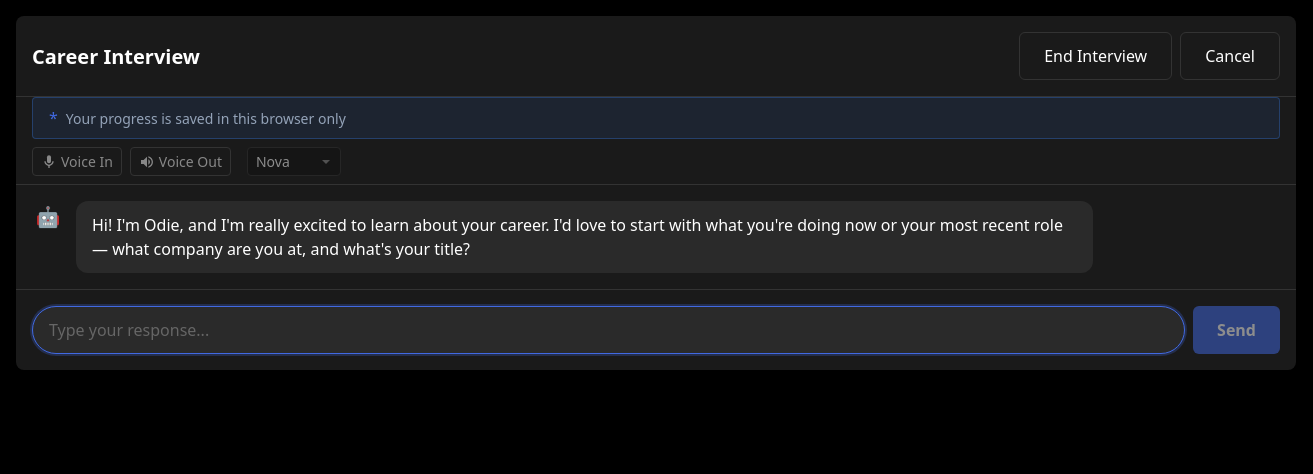
Test: InterviewChat › extractedEntries › does not show entry count in completion summary when no entries
Click the button with test id "interview-end" at (1096, 56), box x1=1019 y1=32 x2=1172 y2=80
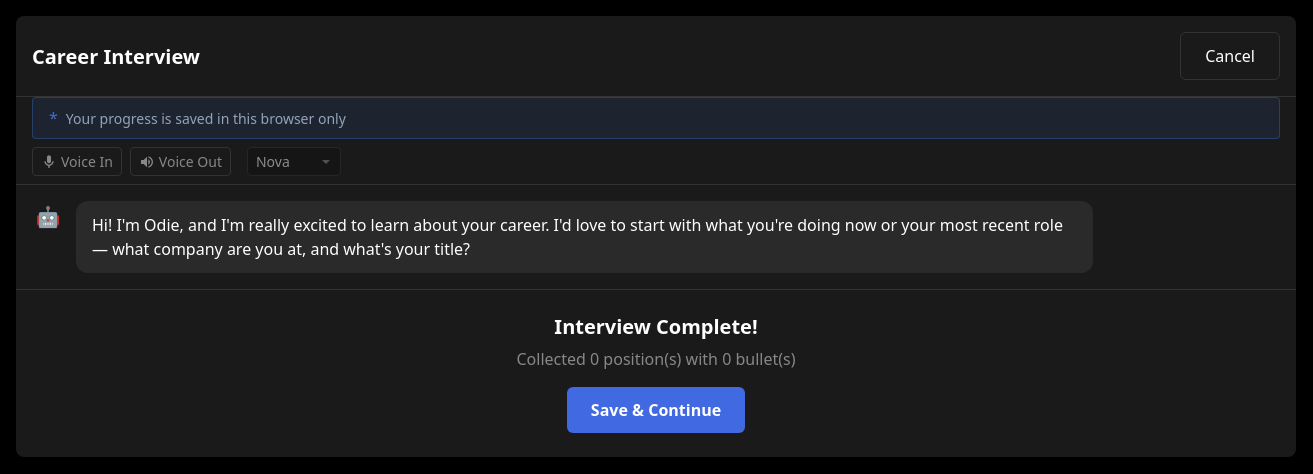
Check: the element with test id "interview-complete" does not show "profile entry", box x1=16 y1=289 x2=1296 y2=457
Check: the element with test id "interview-complete" is shown, box x1=16 y1=289 x2=1296 y2=457
